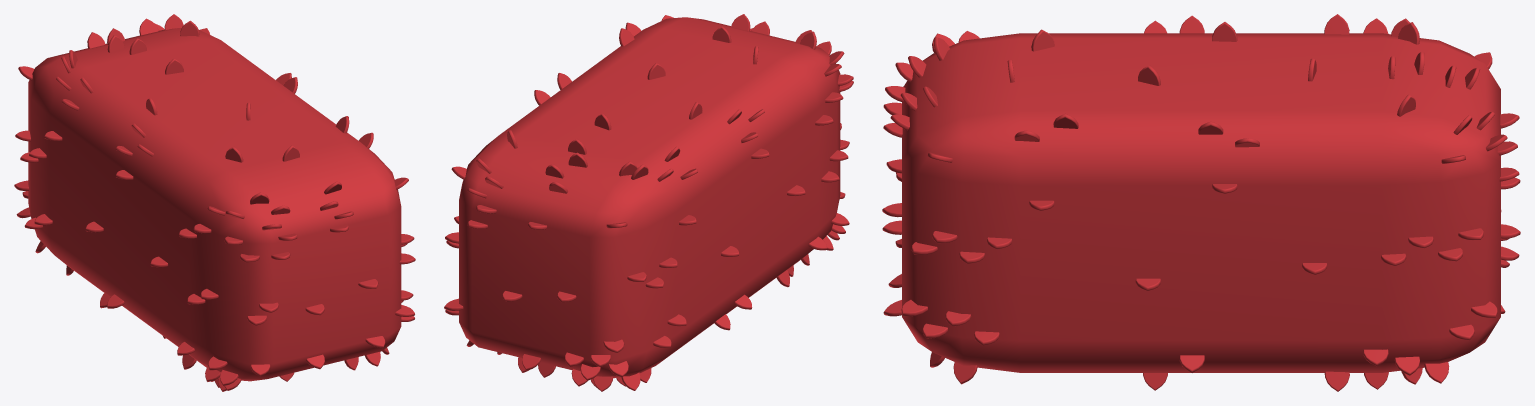
The model's file is vine_spring.fbx.
3 renders of one model, left to right at view 1: azimuth 30°, elevation 25°; view 2: azimuth 150°, elevation 25°; view 3: azimuth 270°, elevation 25°, orthographic. The views are drawn at different scales.
Visible parts, largest first — view 1: Circle.018; view 2: Circle.018; view 3: Circle.018.
Part boxes in pixels (<box>): Circle.018: <box>14,14,415,391</box>; Circle.018: <box>444,14,853,391</box>; Circle.018: <box>882,14,1520,391</box>.
Bounding box in the file's own units: 126 × 250 × 126.
